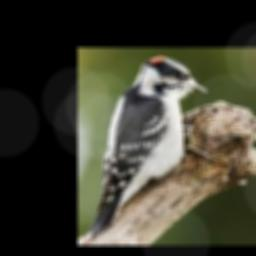Woodpecker: (82, 55, 216, 238)
